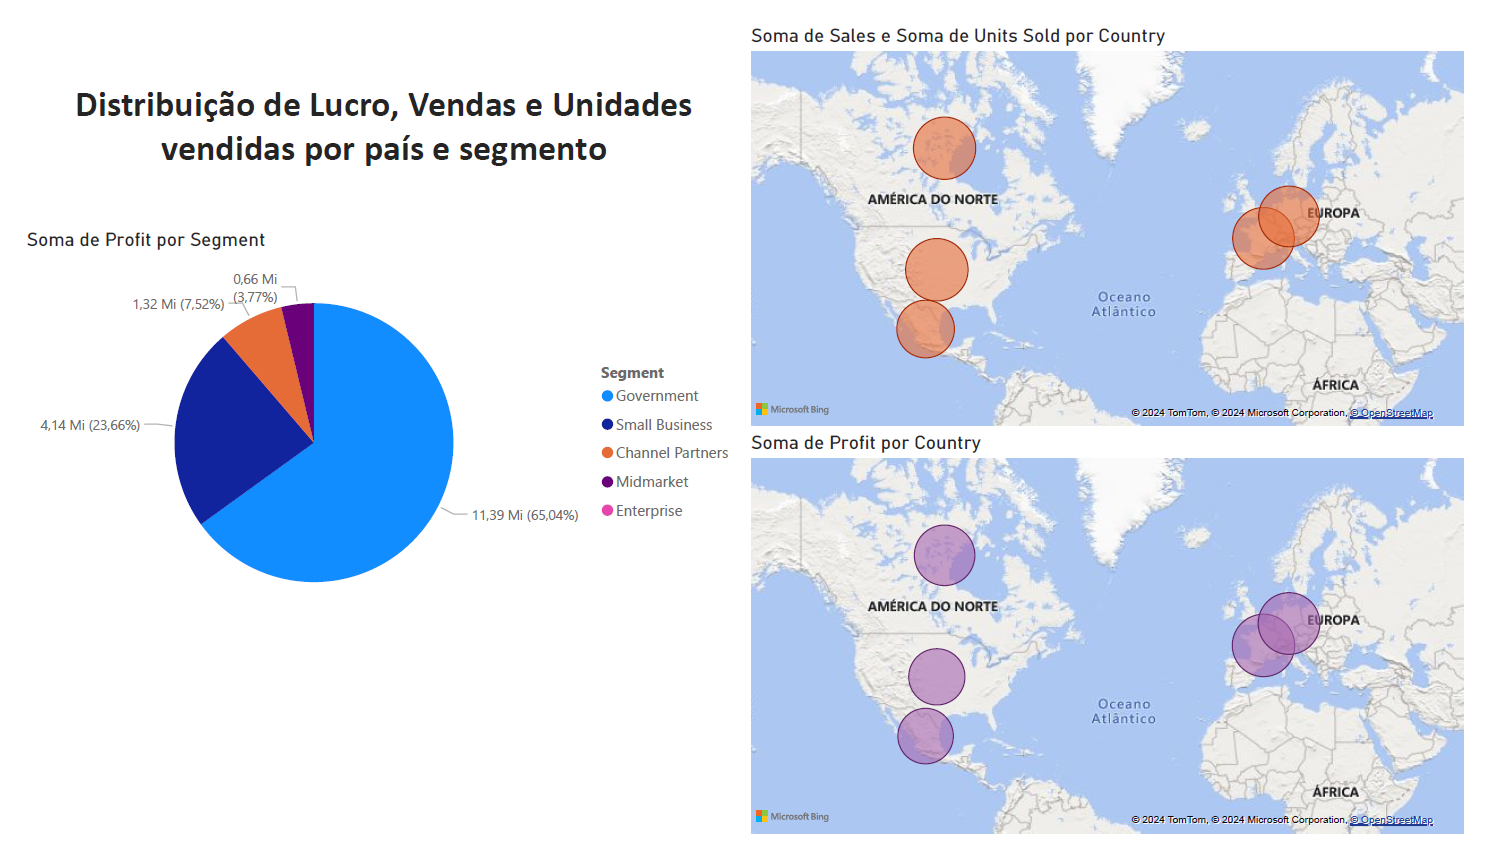

This screenshot's page, from the dashboard's own definition file:
{"tool":"powerbi","page":{"name":"Dist Lucro Vendas Unid por País Segmento","canvas":[1280,720],"ordinal":2},"visuals":[{"type":"map","fields":{"Category":["financials.Country"],"Size":["Sum(financials. Sales)"]},"box":[640.3,0,639.4,360],"z":0},{"type":"map","fields":{"Category":["financials.Country"],"Size":["Sum(financials.Profit)"]},"box":[640.3,360,639.4,360],"z":1000},{"type":"pieChart","fields":{"Category":["financials.Segment"],"Y":["Sum(financials.Profit)"]},"box":[0,180,639.4,360],"z":2000},{"type":"textbox","box":[0.9,45.7,639.4,95.8],"z":3000}]}

Visuals, with their boxes in screenshot pixels (x1, y1, x2, y2), scaled from the page's 1280x720 canvas onto the 1487x856 screenshot:
map - financials.Country x Sum(financials. Sales): bbox=(744, 0, 1486, 428)
map - financials.Country x Sum(financials.Profit): bbox=(744, 428, 1486, 855)
pieChart - financials.Segment x Sum(financials.Profit): bbox=(0, 214, 743, 642)
textbox: bbox=(1, 54, 744, 168)
